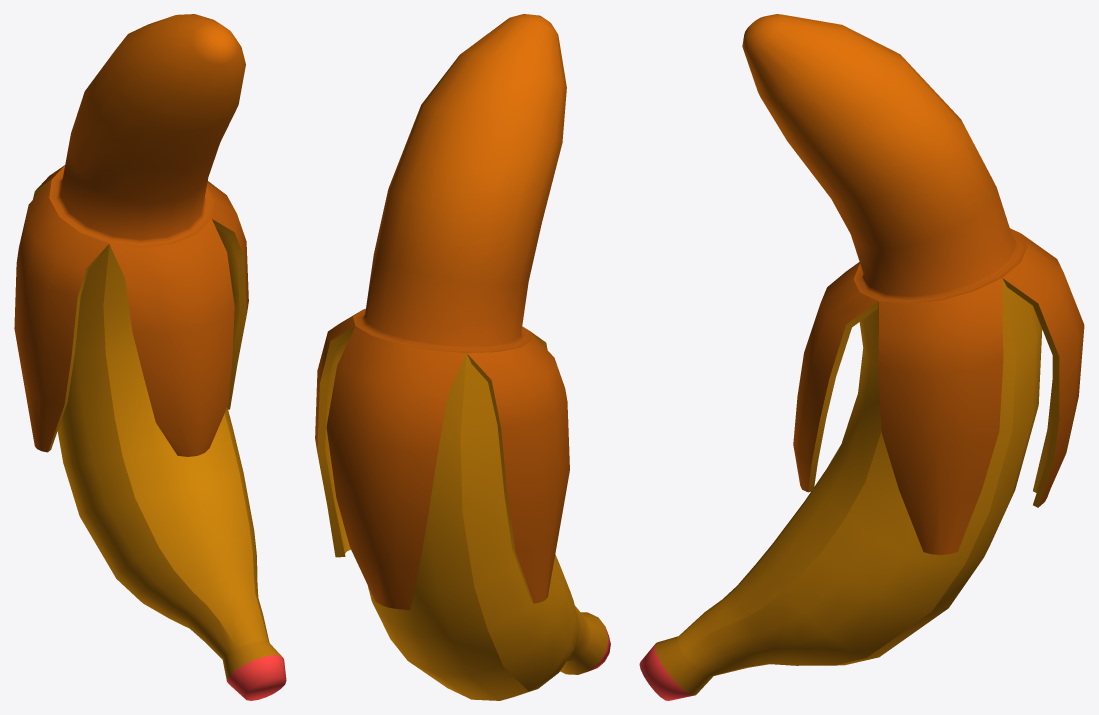
Rendered from Peeled_banana.fbx.
The picture shows the model from 3 angles, left to right: view 1: azimuth 30°, elevation 25°; view 2: azimuth 150°, elevation 25°; view 3: azimuth 270°, elevation 25°; orthographic projection. The views are drawn at different scales.
Visible parts, largest first — view 1: Peeled_banana; view 2: Peeled_banana; view 3: Peeled_banana.
Boxes of the visible parts, <box> form: Peeled_banana: <box>14,14,286,700</box>; Peeled_banana: <box>315,14,610,700</box>; Peeled_banana: <box>639,14,1084,700</box>.
Bounding box in the file's own units: 68.71 × 195 × 115.
